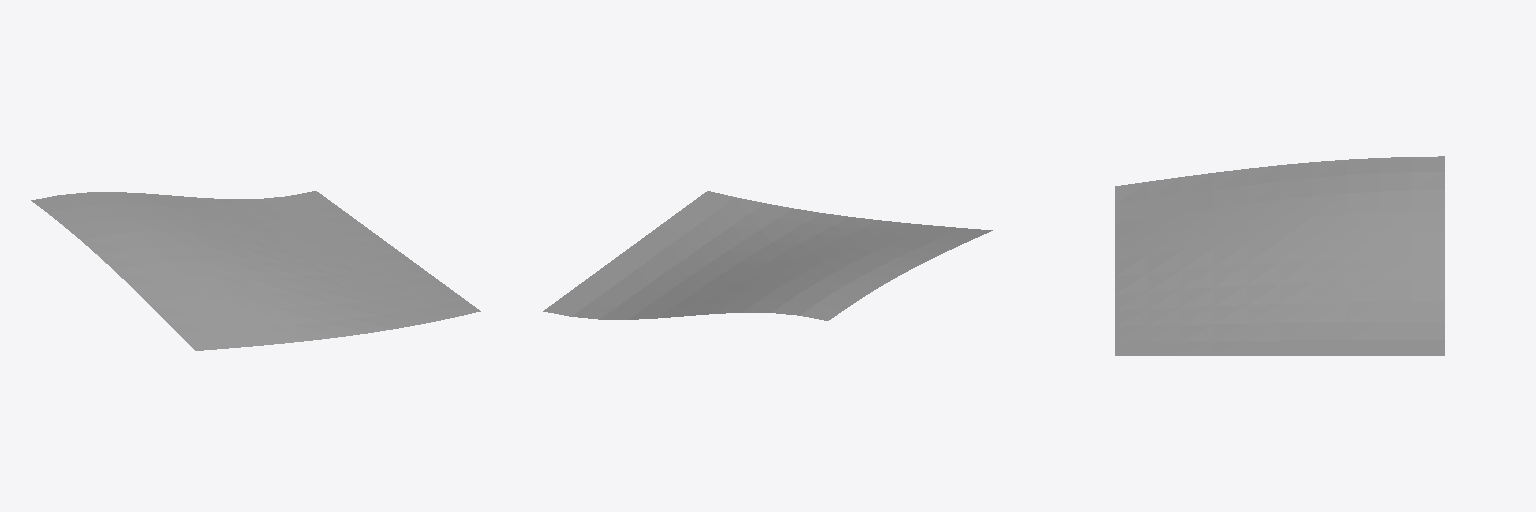
File: grass_bottom_to_mid_top.obj
The picture shows the model from 3 angles: view 1: azimuth 30°, elevation 25°; view 2: azimuth 150°, elevation 25°; view 3: azimuth 270°, elevation 25°; orthographic projection.
Parts seen in each view (by area): view 1: Grass_Plane.015; view 2: Grass_Plane.015; view 3: Grass_Plane.015.
Boxes of the visible parts, <box> form: Grass_Plane.015: <box>31,191,480,350</box>; Grass_Plane.015: <box>543,191,992,320</box>; Grass_Plane.015: <box>1115,156,1444,355</box>.
Bounding box in the file's own units: 10 × 2 × 10.